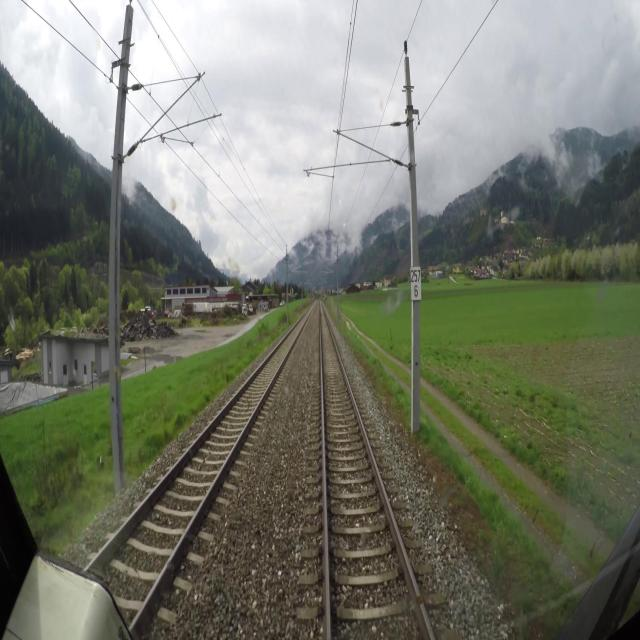rail-track: (89, 309, 310, 620), (320, 304, 430, 639)
